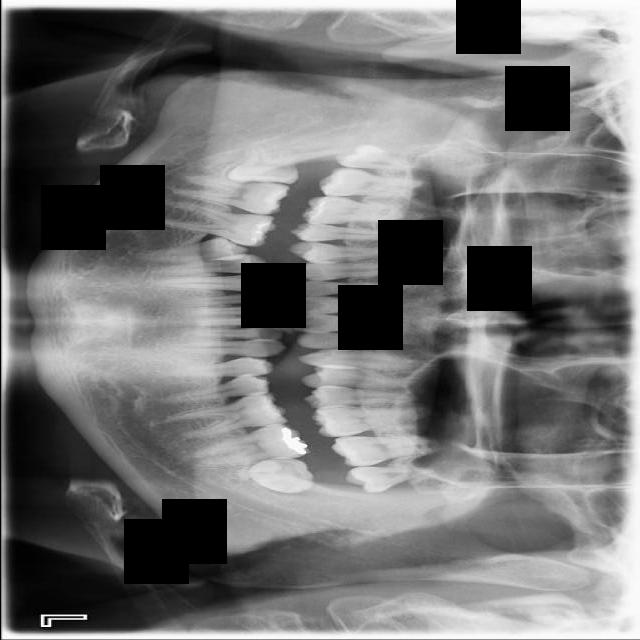3M ESPE Implant: (334, 143, 418, 171)
52: (275, 426, 310, 458)
73: (25, 614, 34, 624)
BioHorizons Implant: (331, 436, 432, 466), (330, 436, 430, 466)
Biomet 3i Implant: (237, 456, 313, 493)
Blue Sky Bio Implant: (191, 419, 310, 470)
Caries: (317, 167, 421, 198)
Implant: (174, 175, 287, 216)
Keystone Dental Implant: (227, 143, 300, 187)
